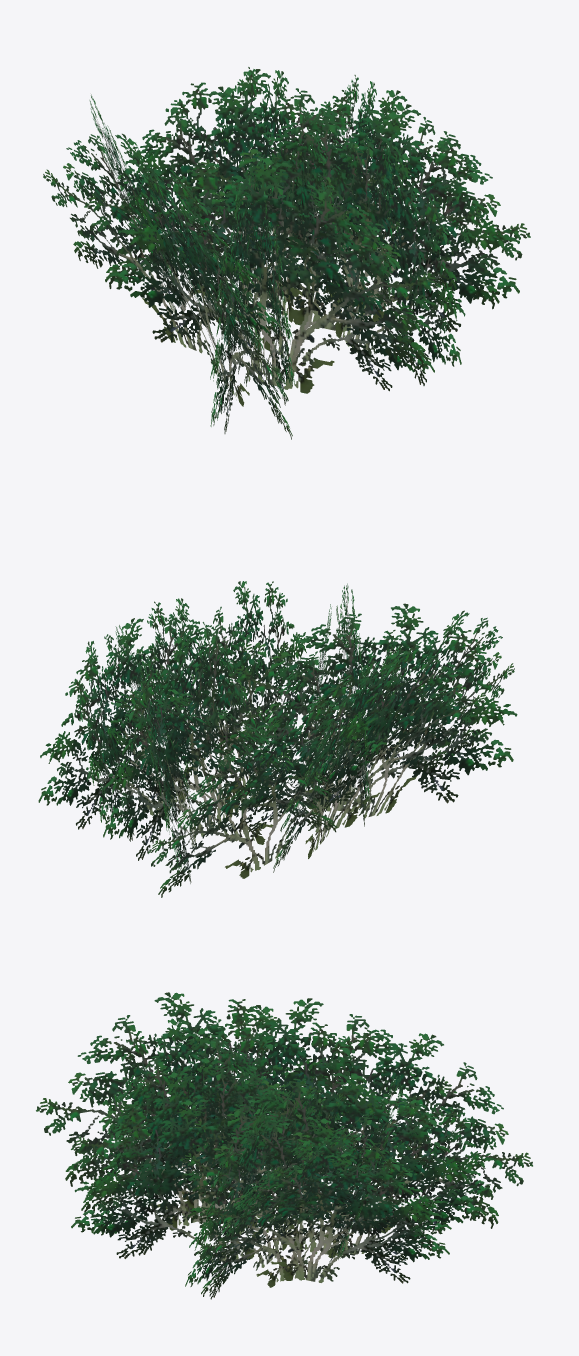
File: grave_grass_lod0.glb
3 views of the same model, one above another, from view 1: azimuth 30°, elevation 25°; view 2: azimuth 150°, elevation 25°; view 3: azimuth 270°, elevation 25° (orthographic). The views are drawn at different scales.
Parts seen in each view (by area): view 1: grave_grass_lod0; view 2: grave_grass_lod0; view 3: grave_grass_lod0.
Part boxes in pixels (x1,y1,x2,y2): grave_grass_lod0: (43, 67, 530, 439); grave_grass_lod0: (38, 581, 517, 897); grave_grass_lod0: (36, 992, 532, 1299).
Size of the model in its own units: 6.44 by 4.28 by 8.29.
Materials: 1 (1 with a texture image).
